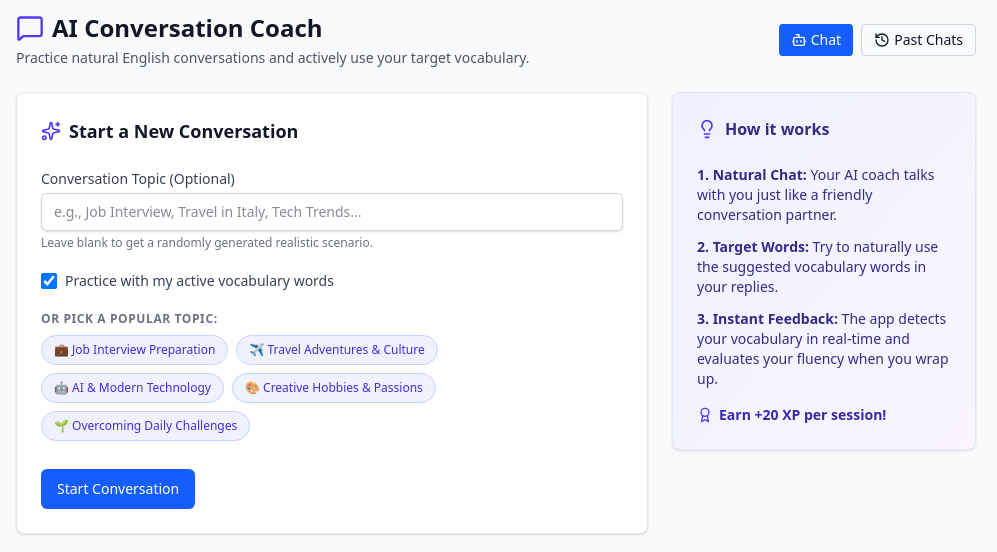
Scenario: ConversationsPage › switches to history tab and lists past sessions
This screenshot has width=997, height=552.
Click the button "Past Chats" at (919, 40), box [861, 24, 976, 56]
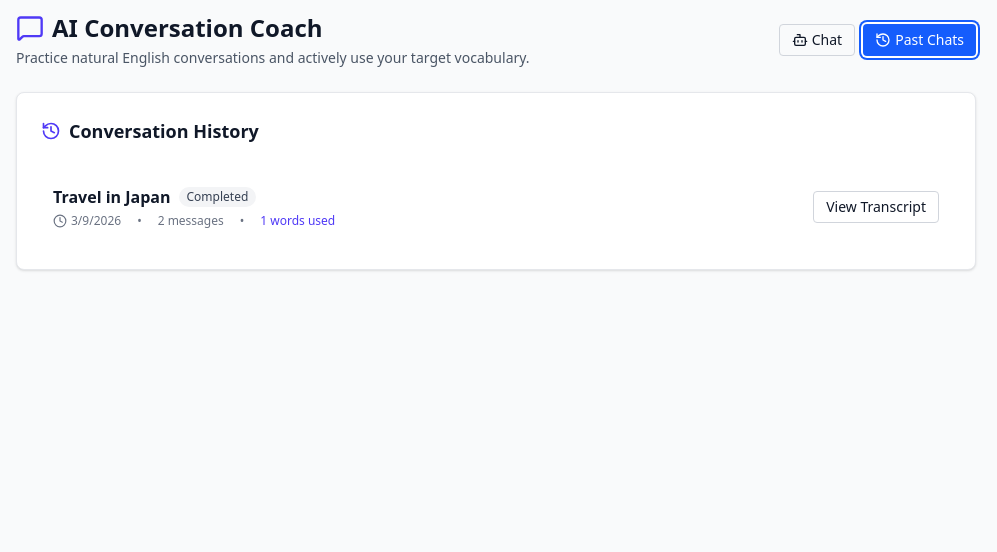
Check: the text "Travel in Japan" is shown, box [53, 185, 170, 209]
Check: the text "Completed" is shown, box [178, 187, 256, 207]
Check: the text "1 words used" is shown, box [260, 213, 335, 229]
